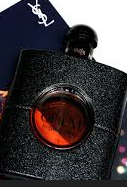ysl_black_opium: (5, 24, 123, 181)
